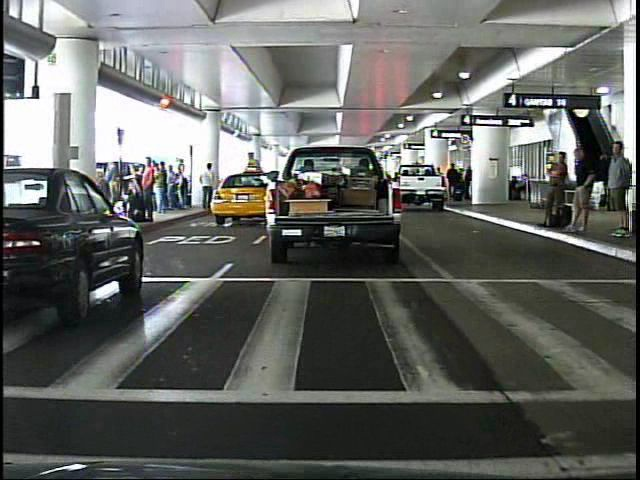person: (603, 137, 634, 242), (537, 146, 571, 236), (568, 142, 599, 238), (140, 155, 159, 223), (199, 160, 218, 214)
